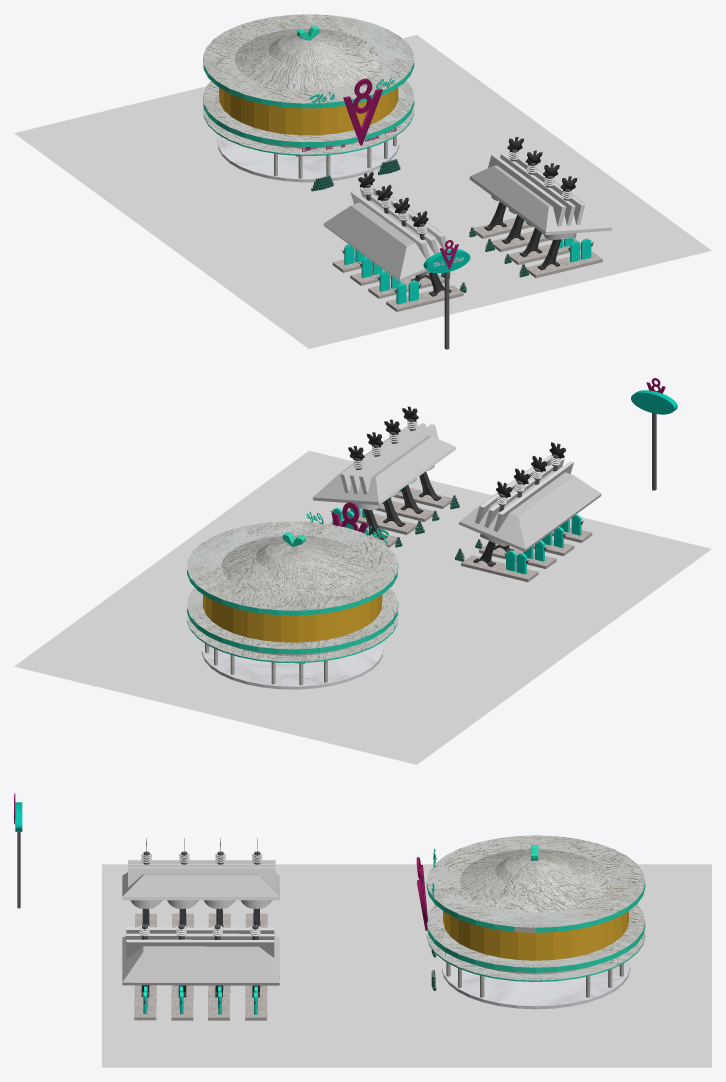
The model's file is Todo.fbx.
The picture shows the model from 3 angles, top to bottom: view 1: azimuth 30°, elevation 25°; view 2: azimuth 150°, elevation 25°; view 3: azimuth 270°, elevation 25°; orthographic projection. The views are drawn at different scales.
Parts seen in each view (by area): view 1: Grid.010, Cylinder.082, Cube.024, Cube.013, Sphere, Cylinder.081, Cylinder.065, Cylinder.080, Sphere.001, Cylinder.078, Text.006, Cube.032 (+3 smaller); view 2: Grid.010, Cylinder.082, Cube.024, Cube.013, Sphere, Cylinder.081, Cylinder.065, Cylinder.080, Sphere.001, Cylinder.078, Cylinder.024, Cube.004; view 3: Grid.010, Cylinder.082, Cube.013, Cube.024, Sphere, Cylinder.081, Cylinder.065, Cylinder.080, Sphere.001, Cylinder.078, Cube.031, Cube.032 (+3 smaller).
Boxes of the visible parts, box(x1,y1,x2,y2) form: Grid.010: box(14, 35, 711, 348); Cylinder.082: box(203, 14, 414, 108); Cube.024: box(323, 183, 464, 281); Cube.013: box(469, 153, 611, 235); Sphere: box(234, 28, 380, 90); Cylinder.081: box(219, 87, 398, 135); Cylinder.065: box(217, 135, 399, 182); Cylinder.080: box(203, 81, 414, 146); Sphere.001: box(268, 32, 346, 66); Cylinder.078: box(203, 106, 414, 155); Text.006: box(343, 78, 382, 145); Cube.032: box(526, 251, 602, 278); Grid.010: box(14, 450, 711, 764); Cylinder.082: box(187, 521, 398, 615); Cube.024: box(458, 454, 601, 551); Cube.013: box(312, 423, 455, 505); Sphere: box(221, 535, 367, 596); Cylinder.081: box(203, 594, 382, 642); Cylinder.065: box(201, 642, 383, 689); Cylinder.080: box(187, 588, 398, 654); Sphere.001: box(255, 538, 333, 572); Cylinder.078: box(187, 613, 398, 663); Cylinder.024: box(631, 390, 677, 414); Cube.004: box(461, 555, 538, 582); Grid.010: box(102, 864, 711, 1067); Cylinder.082: box(426, 835, 645, 932); Cube.013: box(122, 927, 279, 985); Cube.024: box(122, 860, 279, 900); Sphere: box(459, 849, 610, 912); Cylinder.081: box(443, 911, 628, 960); Cylinder.065: box(442, 960, 630, 1009); Cylinder.080: box(426, 904, 645, 972); Sphere.001: box(495, 852, 575, 887); Cylinder.078: box(426, 931, 645, 981); Cube.031: box(171, 985, 193, 1020); Cube.032: box(134, 985, 156, 1020).
Bounding box in the file's own units: 7096 × 1953 × 10295.
